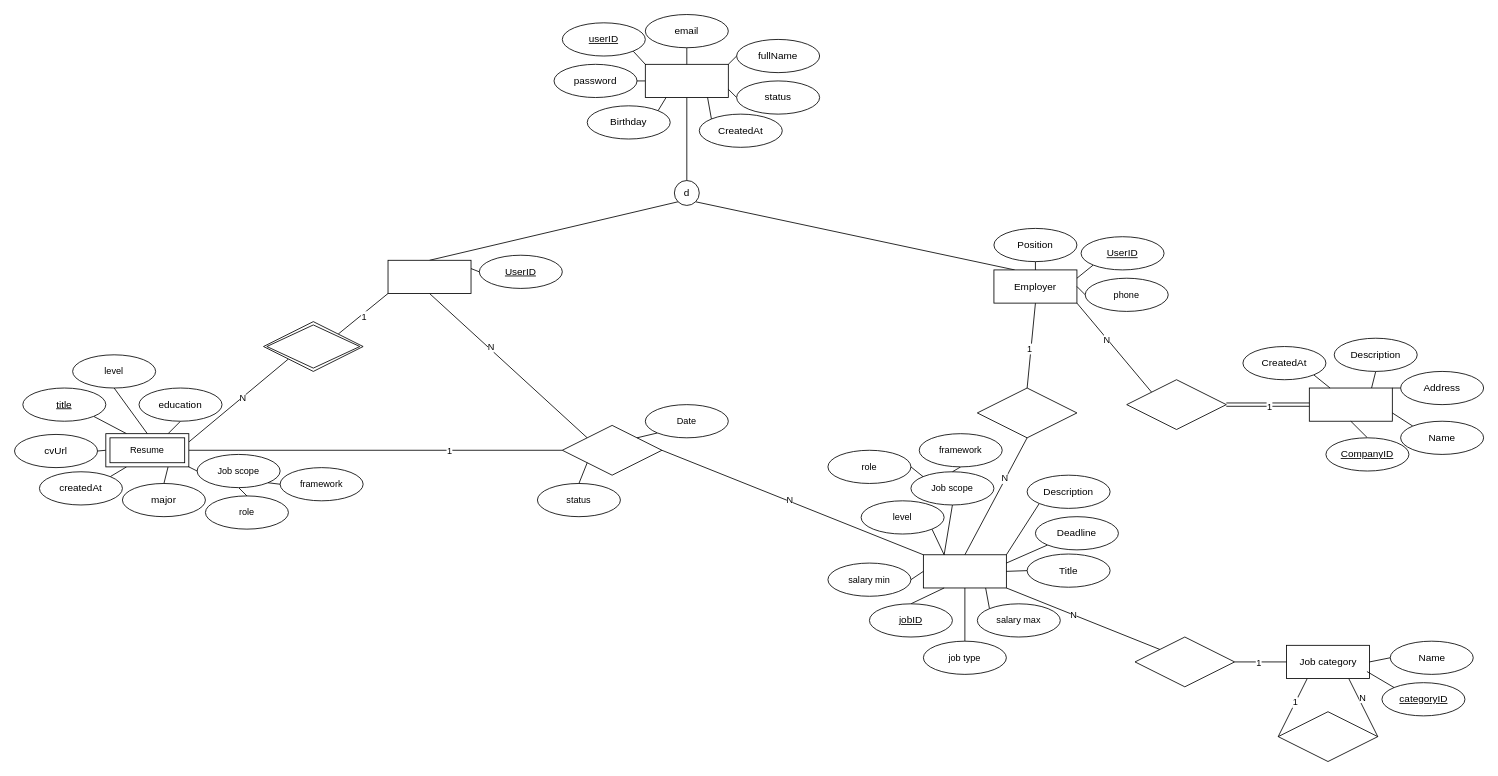
The diagram is 1498 pixels wide and 776 high, and some of its shapes have lost their labels. Each missing label, with the centre of its shape:
"apply" goes at point 611,450.
"belong to" goes at point 1184,661.
"Candidate" goes at point 429,276.
"Company" goes at point 1350,404.
"has" goes at point 313,346.
"have parent Category" goes at point 1327,736.
"Job post" goes at point 964,571.
"post" goes at point 1026,412.
"User" goes at point 686,80.
"Work" goes at point 1176,404.
